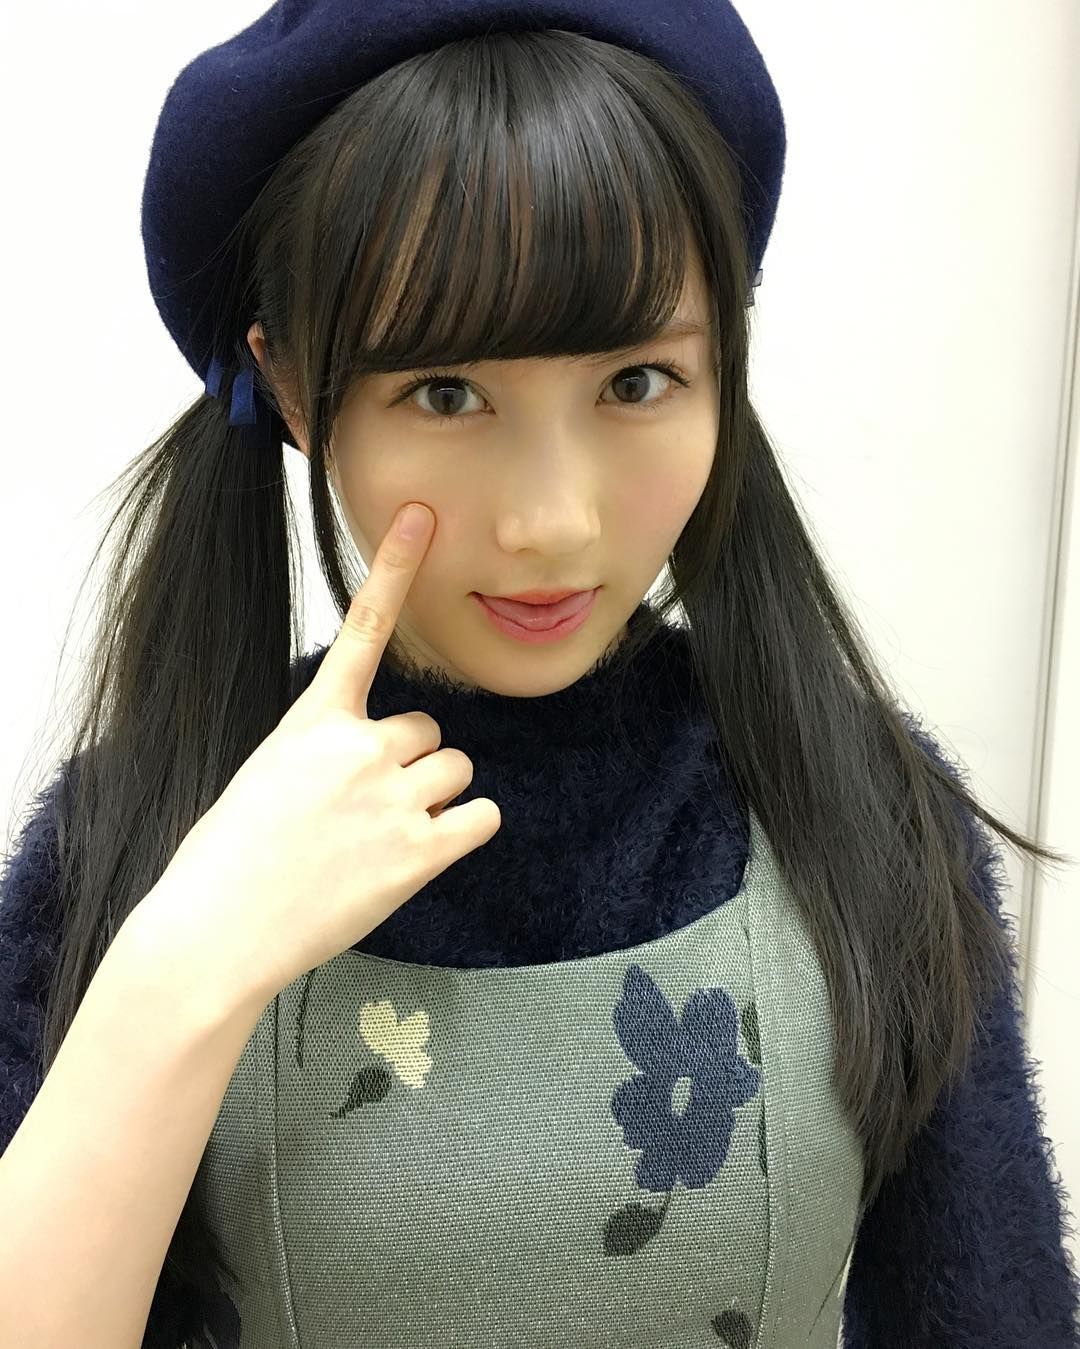face: (248, 172, 722, 702)
hand: (161, 499, 506, 999)
